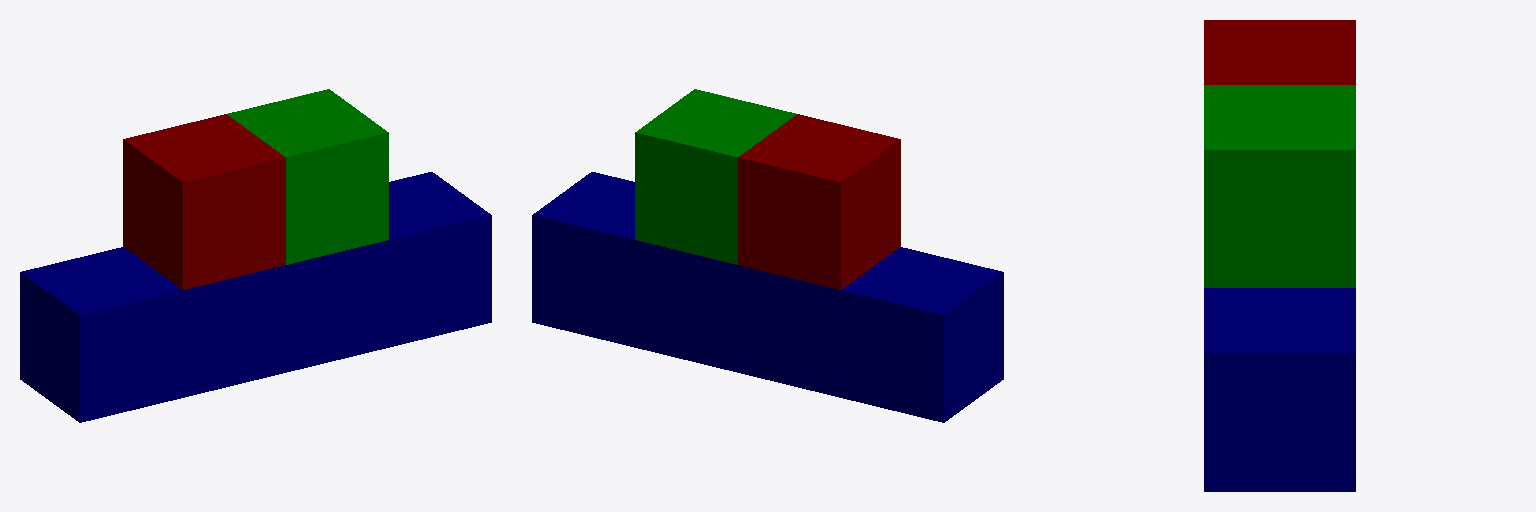
URDF robot description (PrismaticGroup):
<robot name="PrismaticGroup">
	<link name="base_link">
		<visual name="" with_col="true">
			<origin xyz="0 0 0" rpy="0 0 0"/>
			<geometry>
			<box size="0.4 0.1 0.1"/>
			</geometry>
			<material name="">
			<color rgba="0 0 0.5 1"/>
			</material>
		</visual>
	</link>
		
	<link name="slider">
		<visual name="" with_col="true">
			<origin xyz="0 0 0" rpy="0 0 0"/>
			<geometry>
			<box size="0.1 0.1 0.1"/>
			</geometry>
			<material name="">
			<color rgba="0 0.5 0 1"/>
			</material>
		</visual>
	</link>

	<joint name="slider_joint" type="prismatic" visible="false">
		<origin xyz="0.05 0 0.1" rpy="0 0 0"/>
		<parent link="base_link"/>
		<child link="slider"/>
		<axis xyz="1.0 0.0 0.0"/>
		<limit lower="0.0" upper="0.1" effort="1.0" velocity="0.2"/>
	</joint>
	
	<link name="slider2">
		<visual name="" with_col="true">
			<origin xyz="0 0 0" rpy="0 0 0"/>
			<geometry>
			<box size="0.1 0.1 0.1"/>
			</geometry>
			<material name="">
			<color rgba="0.5 0 0 1"/>
			</material>
		</visual>
	</link>
	
	<joint name="slider2_joint" type="prismatic" visible="false">
		<origin xyz="-0.05 0 0.1" rpy="0 0 0"/>
		<parent link="base_link"/>
		<child link="slider2"/>
		<axis xyz="1.0 0.0 0.0"/>
		<limit lower="-0.1" upper="0.0" effort="1.0" velocity="0.2"/>
	</joint>
	
	<gobotics name="two_sliders" type="grouped_joints">
		<input name="slider_group" lower="0" upper="0.1"/>
		<output joint="slider_joint" factor="1"/>
		<output joint="slider2_joint" factor="-1"/>
    </gobotics>
</robot>

--- Render facts (derived) ---
Views: 3 orthographic renders of the robot side by side, from view 1: azimuth 30°, elevation 25°; view 2: azimuth 150°, elevation 25°; view 3: azimuth 270°, elevation 25°.
Robot: PrismaticGroup — 3 links, 2 joints (2 prismatic); root link base_link; default pose: all joints at 0.
Visible links, largest first — view 1: base_link, slider2, slider; view 2: base_link, slider2, slider; view 3: base_link, slider, slider2.
Boxes of the visible links, box(x1,y1,x2,y2) form: base_link: box(20, 172, 491, 422); slider2: box(123, 114, 285, 289); slider: box(227, 89, 388, 264); base_link: box(532, 172, 1003, 422); slider2: box(738, 114, 900, 289); slider: box(635, 89, 796, 264); base_link: box(1204, 288, 1355, 491); slider: box(1204, 85, 1355, 287); slider2: box(1204, 20, 1355, 84).
Bounding box of the posed robot: 0.4 × 0.1 × 0.2 m (x, y, z).
Geometry: primitives only (box / cylinder / sphere), no mesh files.